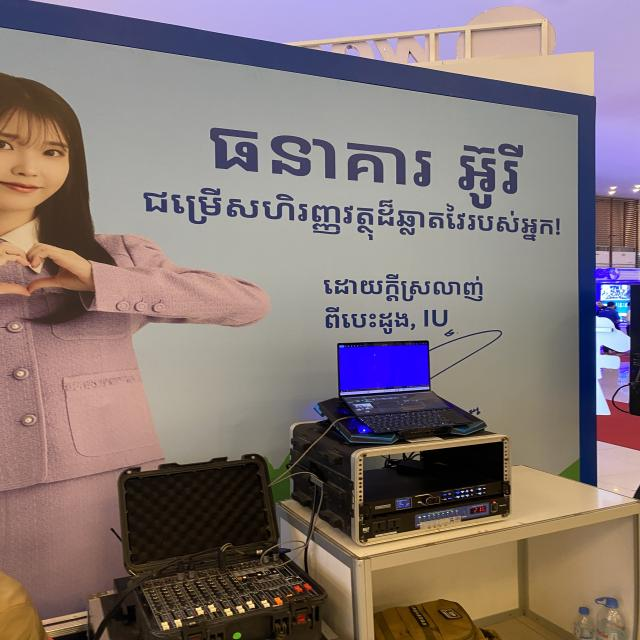1: (199, 120, 538, 215)
Yolov11kh: (135, 179, 576, 247), (315, 271, 494, 304), (320, 305, 422, 335)
